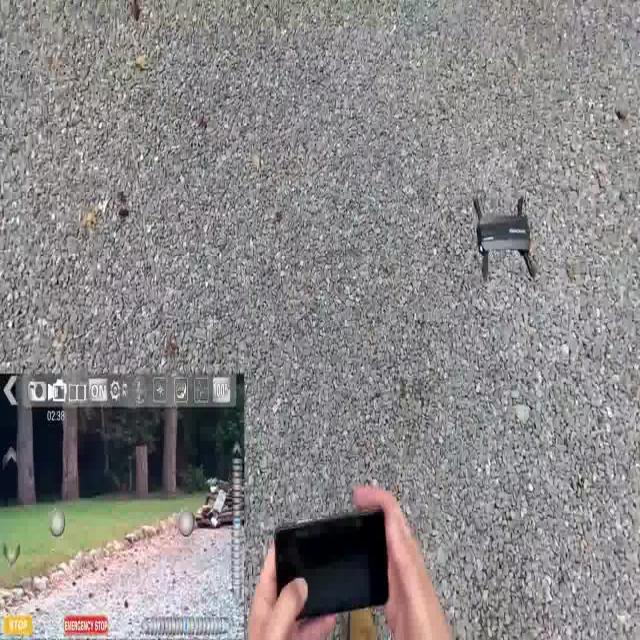Drone_FW: (470, 181, 542, 287)
